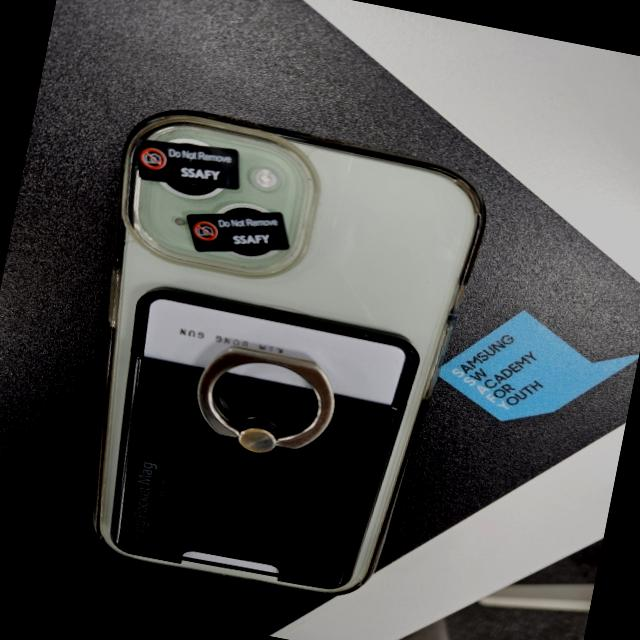phone: (49, 99, 490, 614)
sticker: (128, 130, 243, 199), (182, 198, 294, 265)
